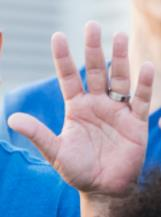down: (4, 17, 158, 197)
